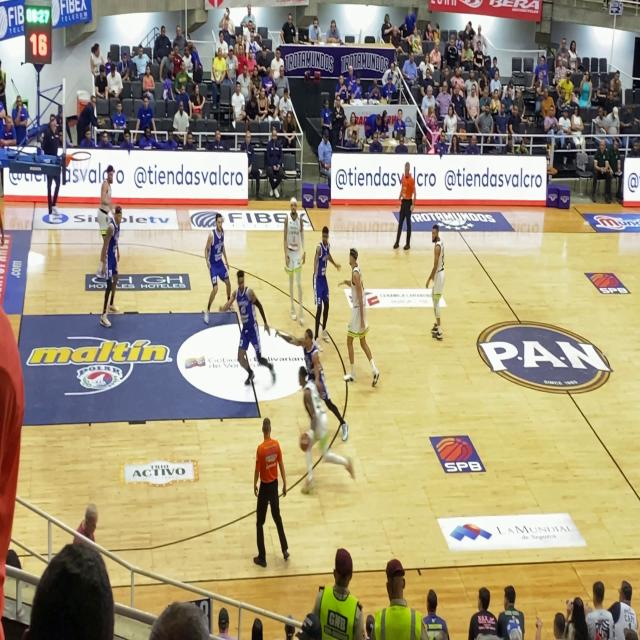Ball: (298, 428, 312, 455)
referee: (247, 408, 295, 570), (380, 141, 423, 270)
team1: (291, 366, 354, 500), (339, 238, 386, 388), (281, 188, 310, 320), (422, 214, 450, 347), (94, 159, 115, 242)
team2: (223, 255, 271, 405), (282, 308, 334, 396), (199, 206, 233, 331), (306, 222, 340, 342), (100, 202, 124, 335)
ubasket: (69, 146, 94, 172)
